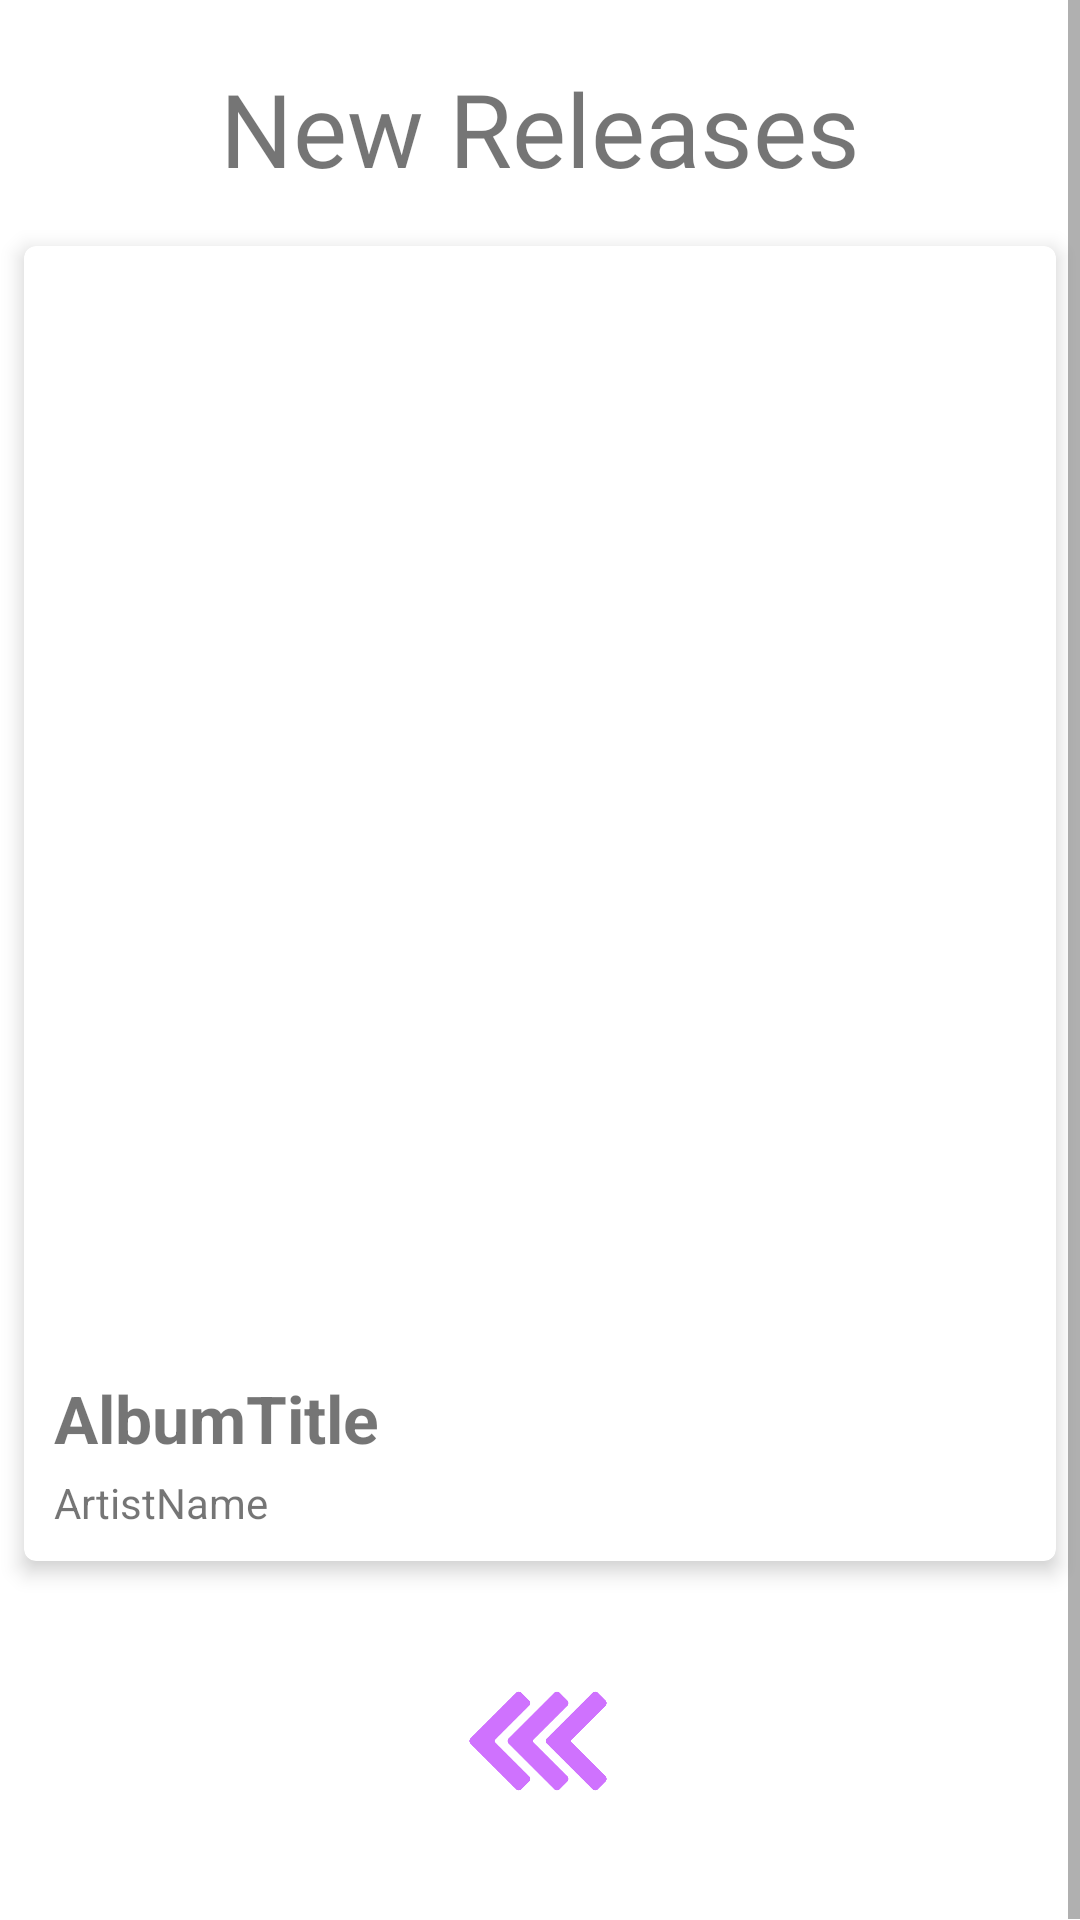

Screen size 1080w x 1920h. Icon name, then its center in pixels as (x=x, y=y):
arrows: (x=538, y=1741)
